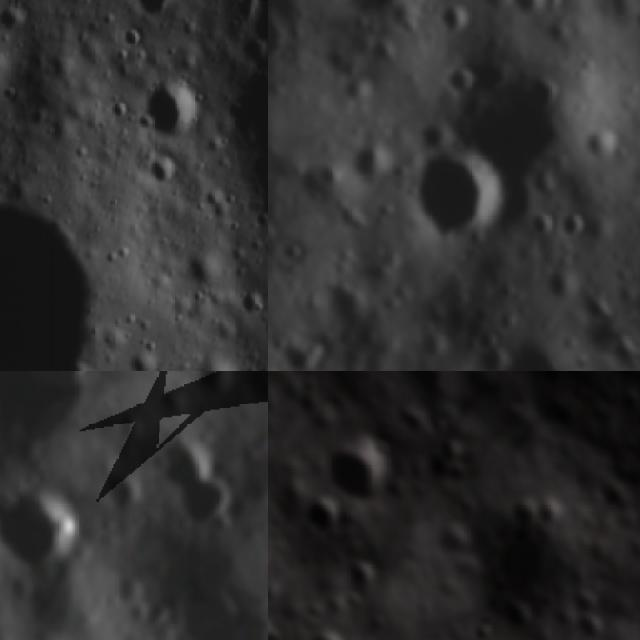crater: (379, 101, 523, 256), (0, 457, 98, 590), (144, 563, 255, 640), (161, 462, 252, 551), (146, 414, 232, 494), (325, 430, 398, 507), (268, 0, 330, 79), (140, 79, 203, 145), (336, 549, 387, 597), (301, 498, 339, 544), (0, 2, 43, 41), (230, 371, 268, 415), (142, 150, 182, 191), (123, 0, 198, 21), (563, 606, 606, 640), (239, 283, 268, 320), (531, 496, 560, 528), (576, 509, 604, 538), (127, 351, 162, 371), (307, 627, 350, 640), (471, 620, 497, 640), (258, 312, 268, 348)
